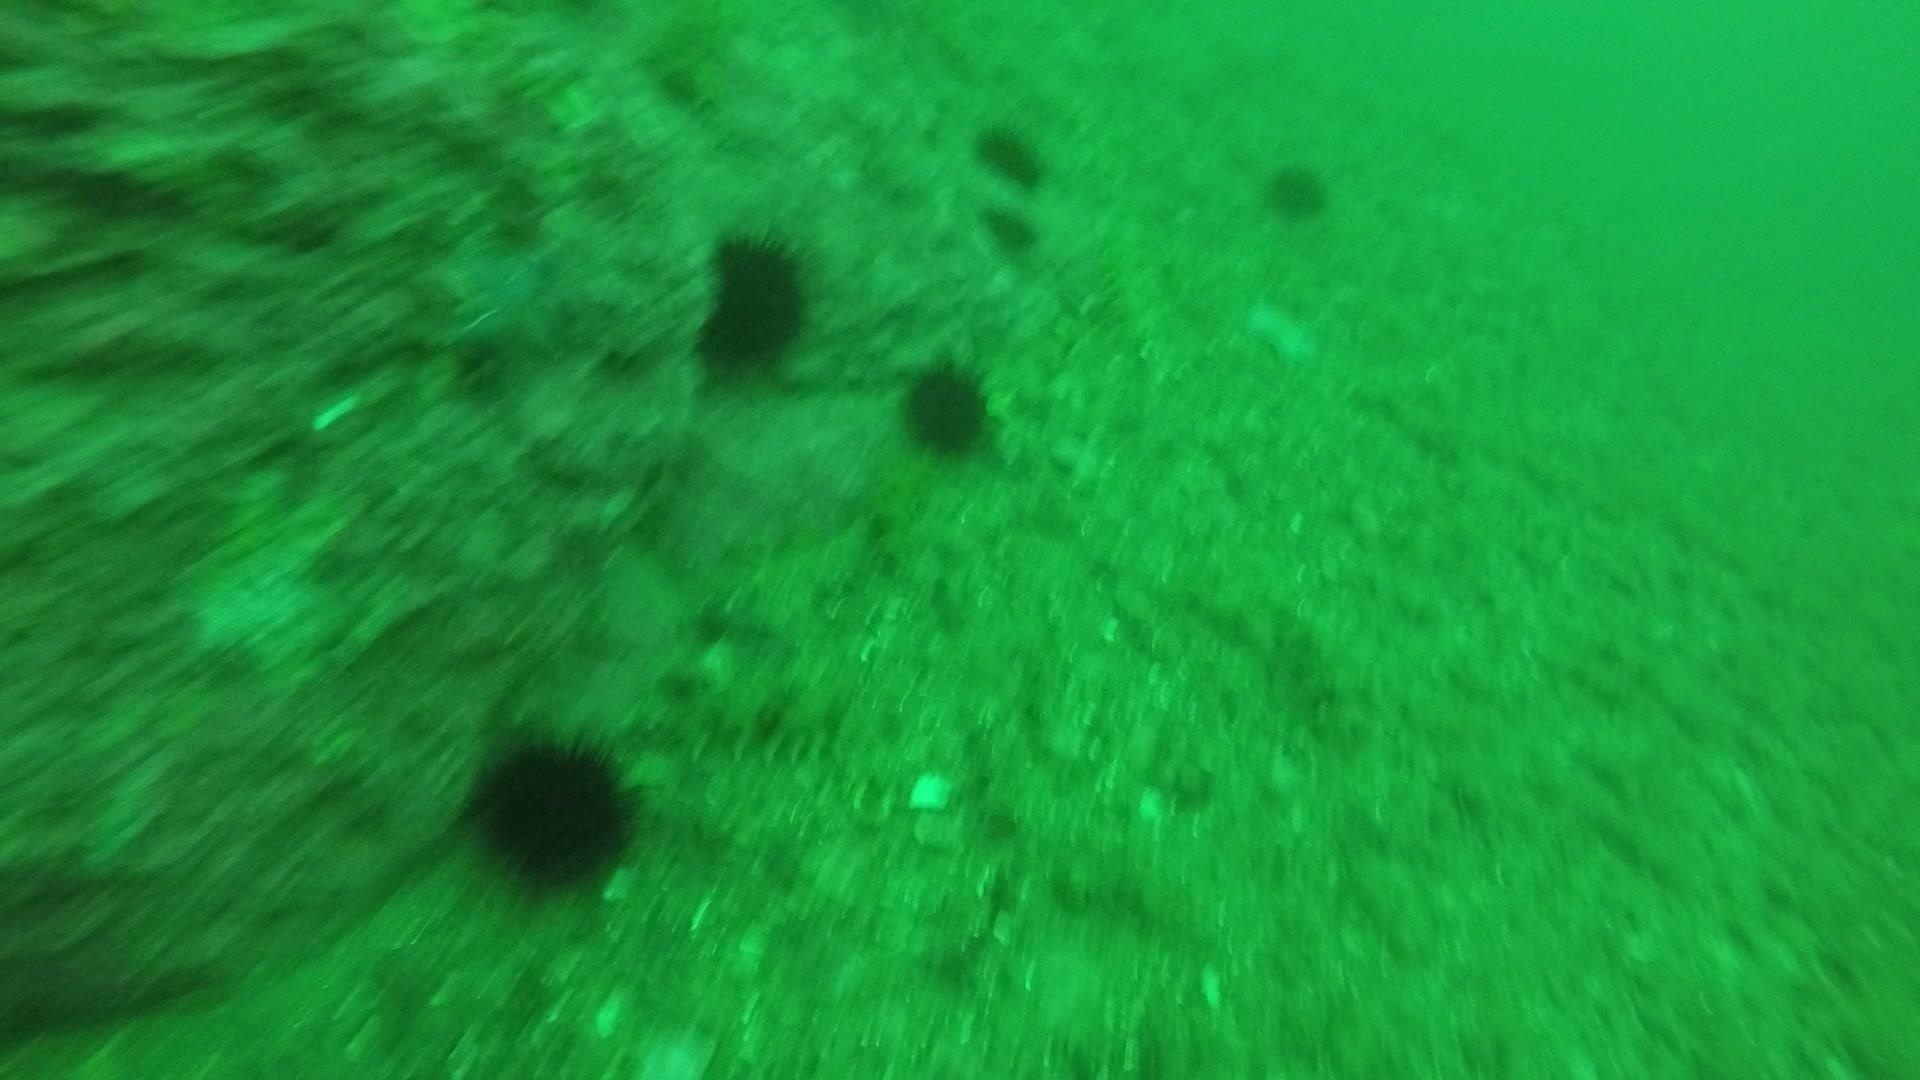echinus: (462, 723, 649, 894), (688, 222, 822, 381), (891, 353, 1000, 463), (968, 116, 1051, 193), (1257, 156, 1335, 224), (977, 200, 1044, 258)
holothurian: (670, 675, 866, 775)
starfish: (1240, 291, 1327, 375)
